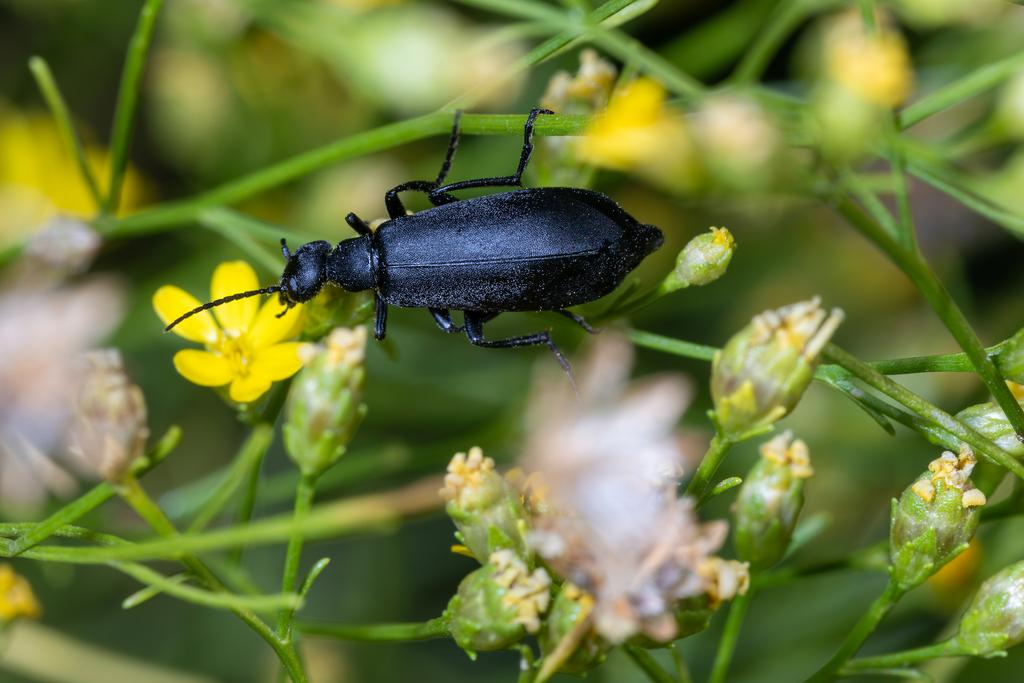blister_beetle: (134, 66, 729, 406)
